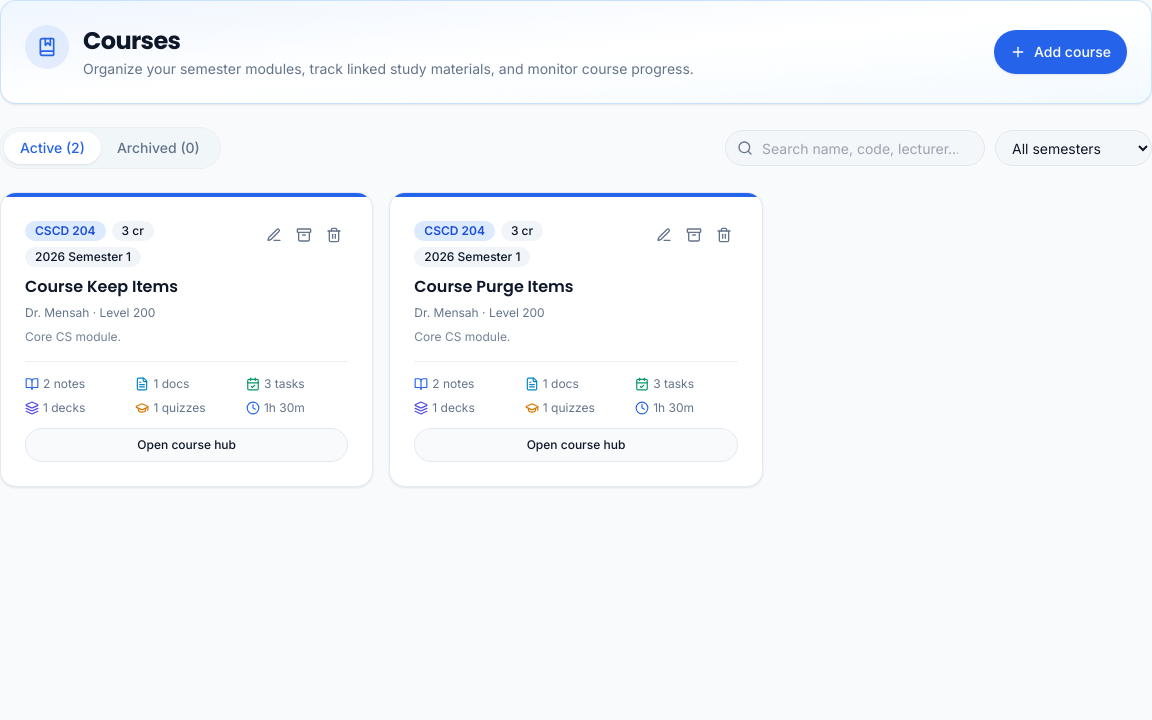
it: CoursesPage › opens DeleteCourseModal and sends both unassign and delete query modes
This screenshot has width=1152, height=720.
Later steps or results of the test are not shown.
Check: the link "Course Keep Items" is shown, box [25,275,178,298]
Note: First delete with default 'unassign' mode
Step 1. Click the button named "Delete Course Keep Items" → (334, 235), box [320,221,348,249]
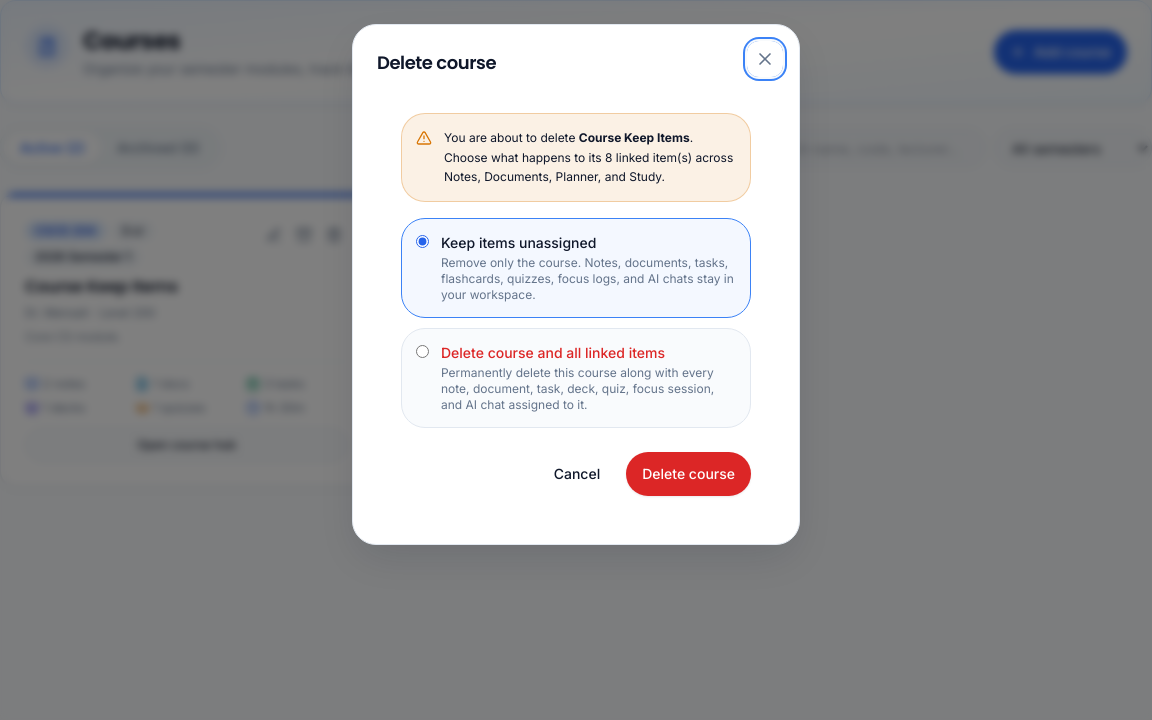
Check: the radio button labelled "Keep items unassigned" is checked, box [416,234,429,248]
